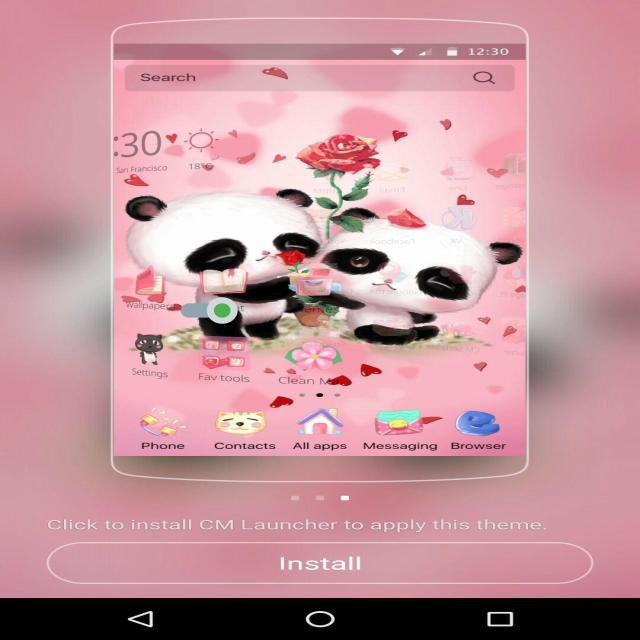social proof: (180, 286, 238, 335)
